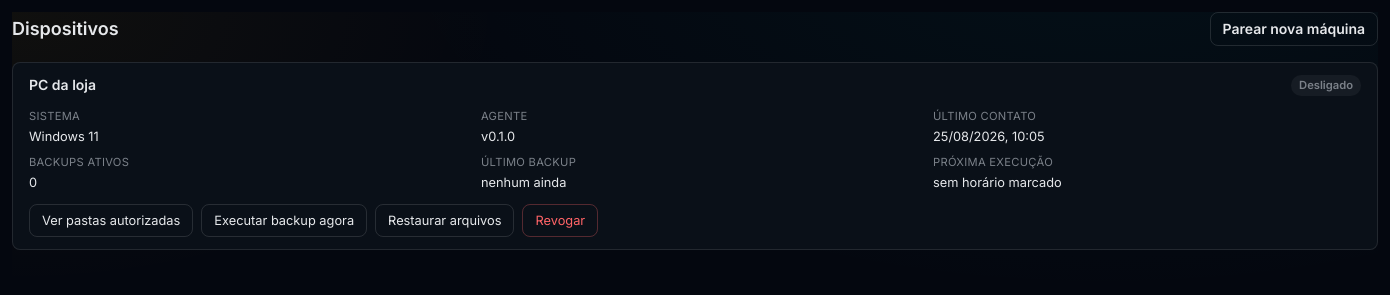
Dispositivos › máquina desligada vira frase clara, não erro
Expected: the text "PC da loja" is shown, [29, 75, 96, 95]
Click the button "Ver pastas autorizadas" at (111, 220), box [29, 204, 193, 237]
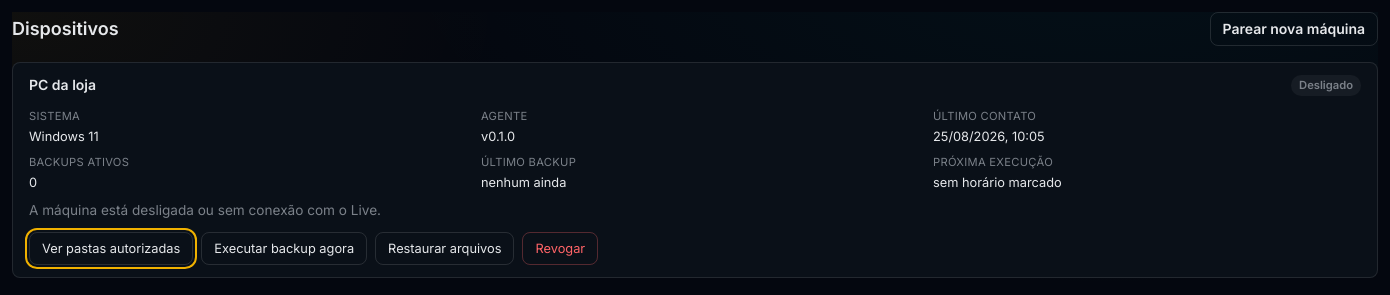
Expected: the text "A máquina está desligada ou sem conexão com o Live." is shown, [29, 202, 381, 218]
